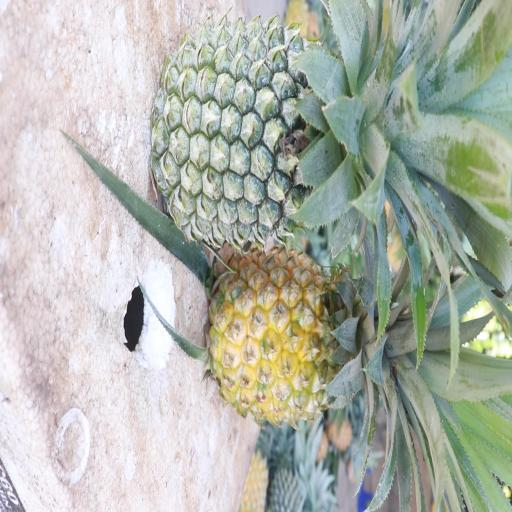Pineapple - v8 v1: (210, 244, 476, 508)
